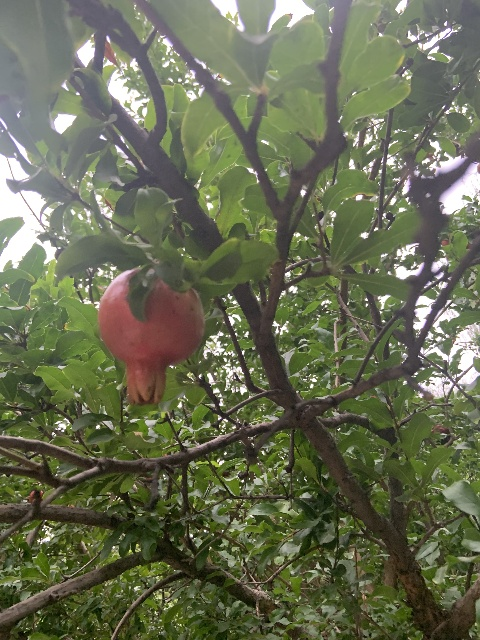ripe: (97, 267, 204, 406)
